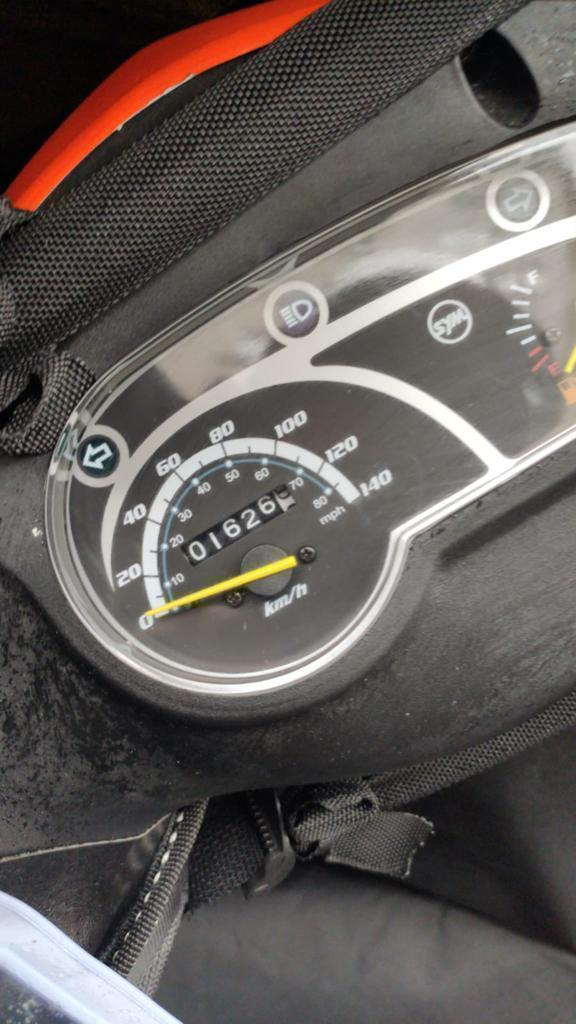0: (188, 541, 208, 560), (202, 481, 213, 491), (183, 508, 192, 518), (176, 533, 184, 544)
1: (206, 530, 224, 549)
2: (239, 509, 262, 529)
3: (177, 512, 186, 522)
4: (197, 486, 205, 495)
6: (219, 517, 241, 538), (256, 495, 277, 514)
7: (287, 480, 296, 490)
8: (272, 484, 291, 501)
odometer: (177, 480, 302, 568)
